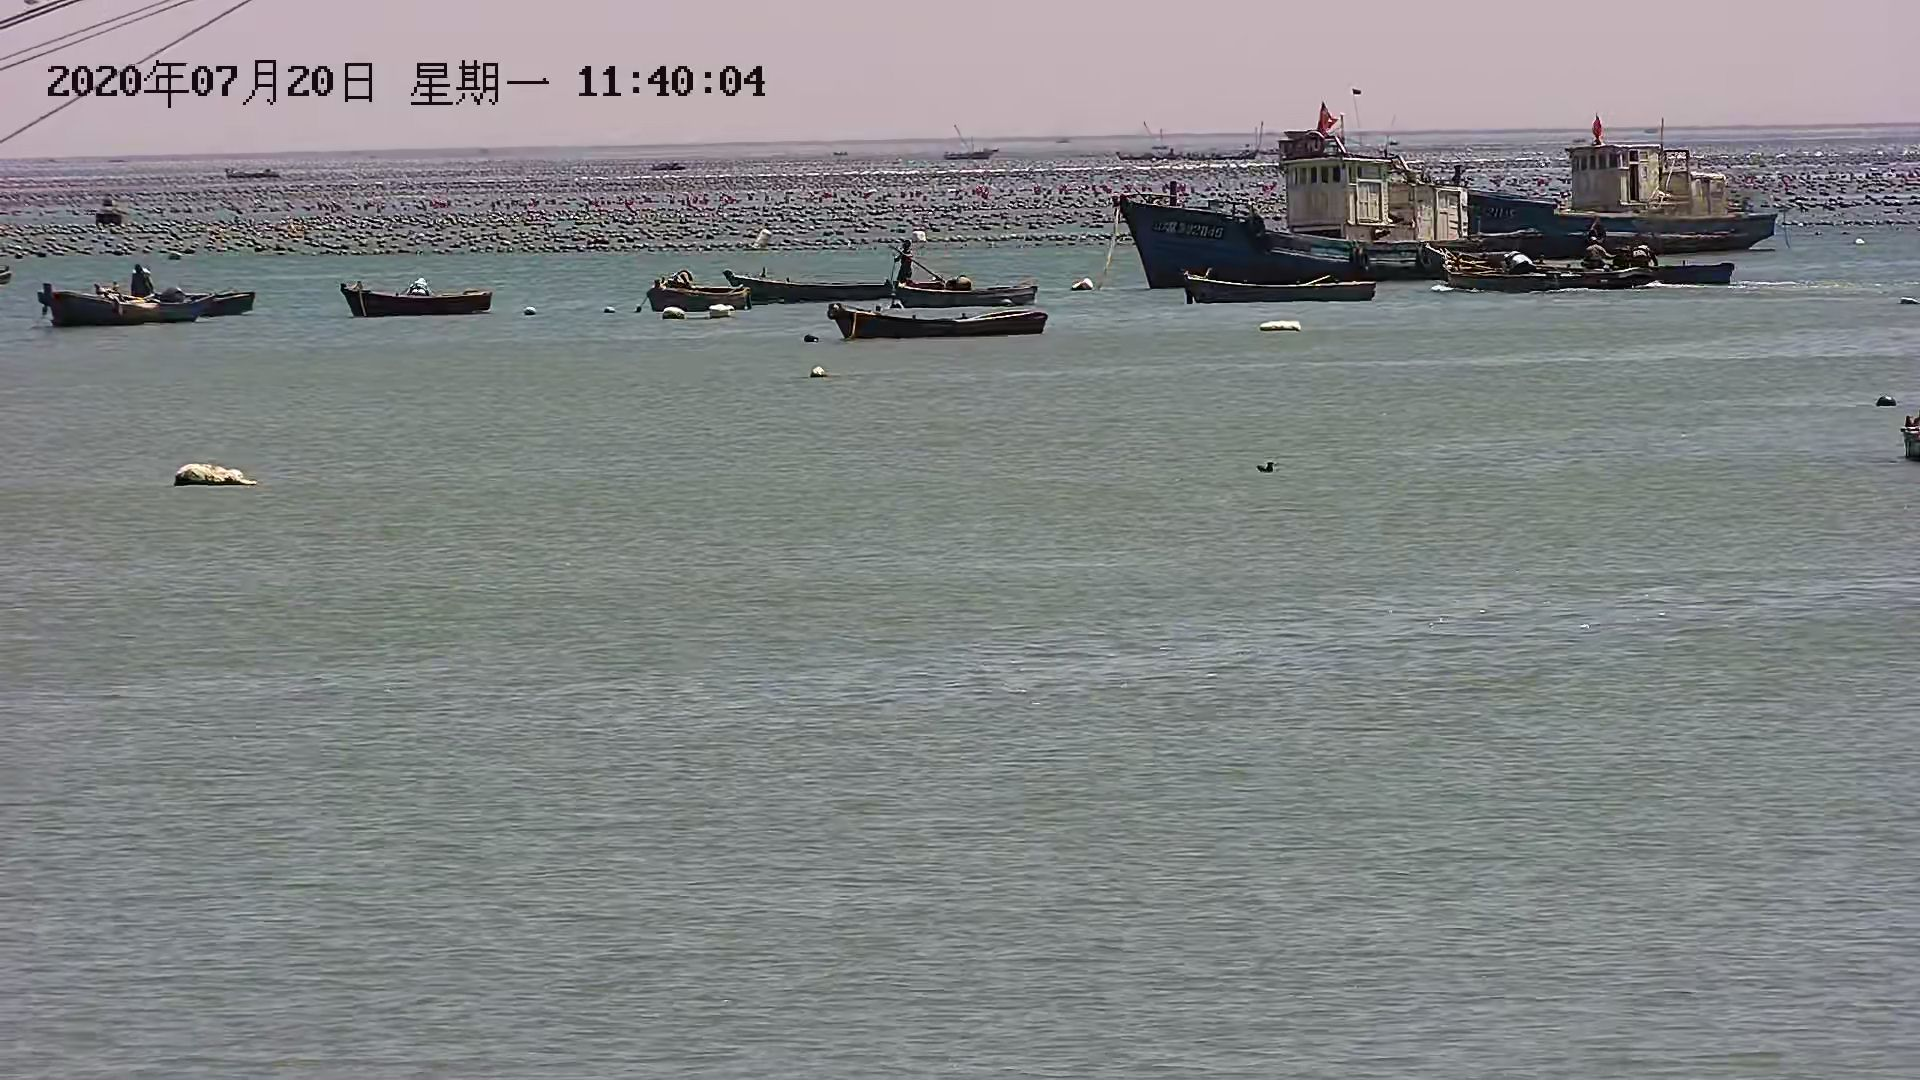boat: (1112, 133, 1552, 281), (1495, 141, 1785, 249), (1532, 243, 1745, 298), (814, 309, 1055, 342), (1174, 268, 1381, 305), (897, 268, 1044, 310), (37, 290, 200, 324), (736, 264, 903, 295), (345, 282, 497, 316), (647, 276, 752, 316), (149, 278, 258, 315)
rubbish: (164, 462, 262, 491)
